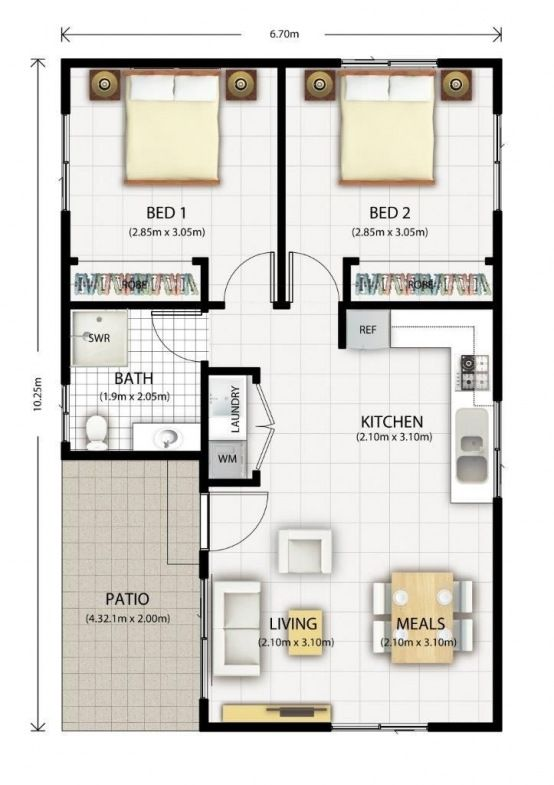door: (216, 488, 273, 548), (148, 310, 199, 365), (288, 238, 339, 293), (224, 241, 275, 296)
room: (196, 475, 505, 735), (333, 297, 508, 737), (57, 53, 288, 312), (55, 51, 286, 310), (274, 52, 505, 311), (57, 299, 212, 462), (202, 360, 261, 491)
